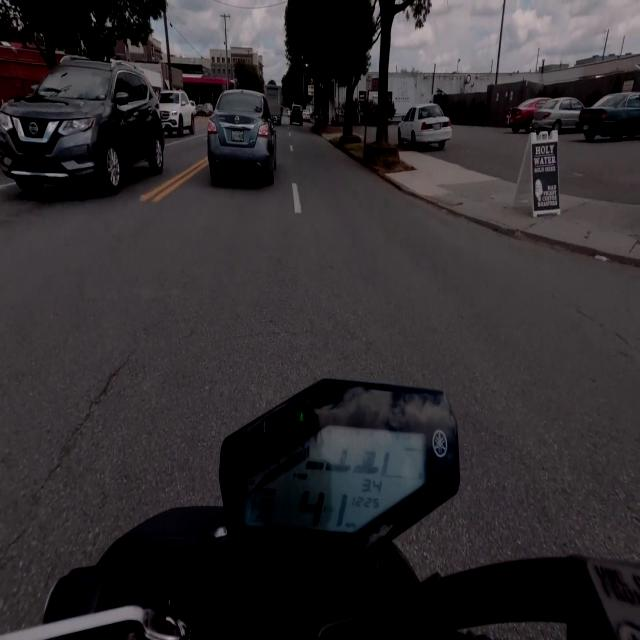car: (0, 56, 164, 193), (208, 89, 276, 184), (576, 92, 639, 141), (398, 104, 451, 148), (531, 97, 583, 131), (159, 90, 195, 136), (507, 98, 549, 133), (290, 105, 303, 126), (303, 110, 311, 122)
motorcycle: (3, 380, 639, 639)
